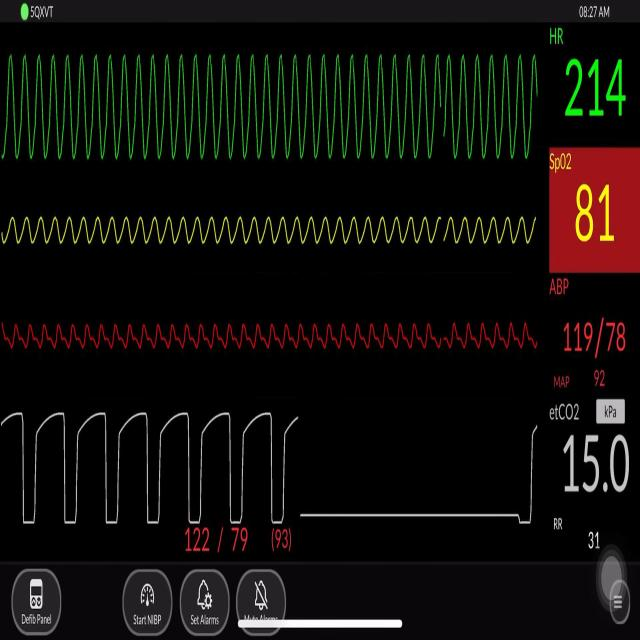danger: (10, 25, 543, 180)
